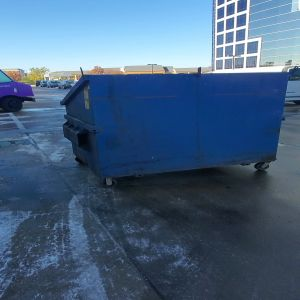Dumpster: (60, 74, 283, 188)
